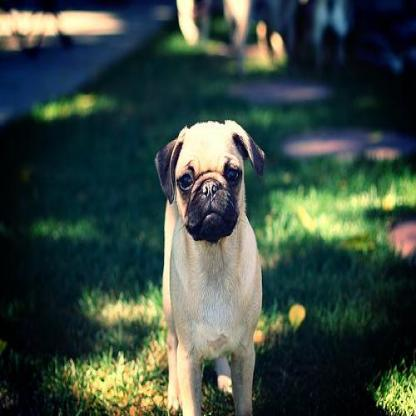pug: (152, 114, 265, 412)
